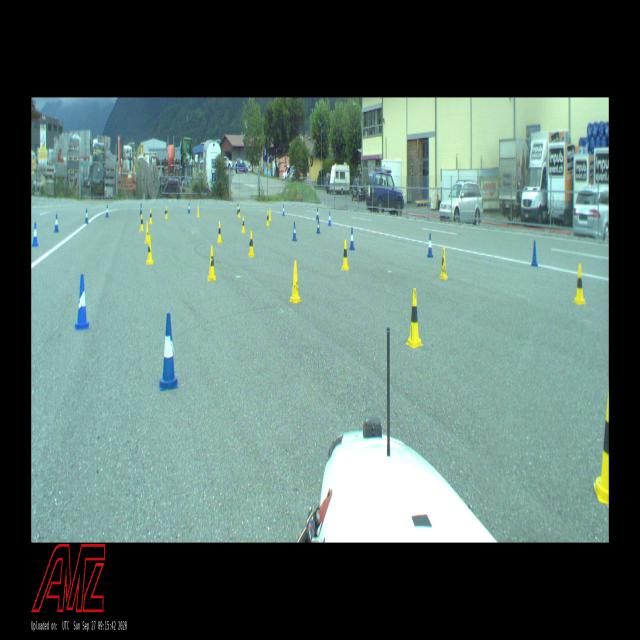blue_cone: (158, 313, 178, 391), (74, 274, 90, 330), (530, 238, 539, 268), (427, 233, 433, 258), (32, 222, 38, 246), (349, 227, 355, 250), (54, 213, 60, 232), (292, 222, 297, 242), (316, 217, 321, 234), (85, 207, 89, 225), (139, 202, 143, 215), (105, 205, 109, 217), (282, 204, 286, 216), (328, 212, 331, 226), (188, 202, 191, 214), (237, 202, 240, 214), (316, 208, 318, 220)
yellow_cone: (594, 388, 608, 504), (405, 286, 424, 348), (288, 260, 302, 304), (573, 264, 586, 306), (439, 246, 448, 280), (208, 245, 216, 281), (341, 239, 349, 271), (146, 237, 154, 264), (248, 231, 255, 257), (216, 221, 222, 244), (144, 220, 149, 243), (140, 213, 144, 232), (241, 215, 245, 234), (266, 210, 270, 226), (149, 209, 153, 224), (268, 208, 272, 222), (164, 206, 168, 218), (238, 205, 241, 218), (197, 205, 200, 218)
